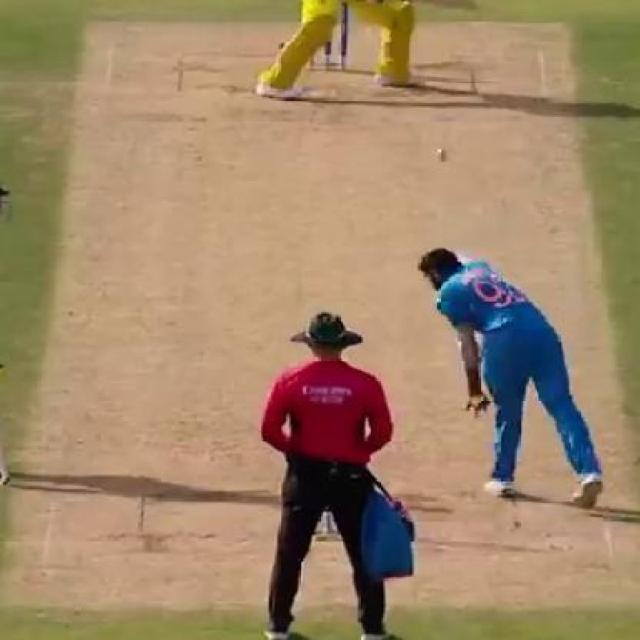Cricket ball: (433, 145, 452, 165)
